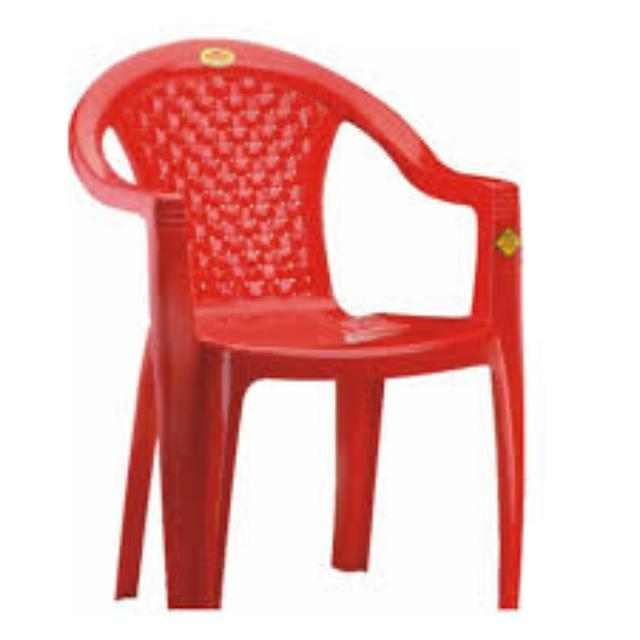obstacle: (38, 25, 554, 637)
